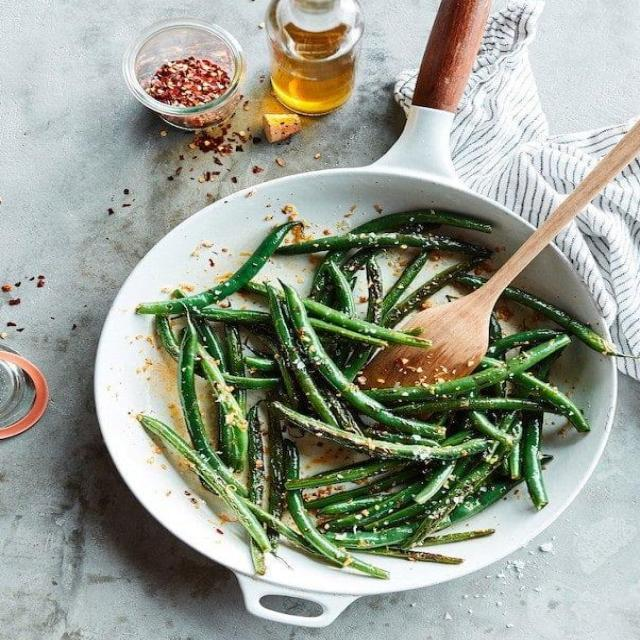Beans: (122, 203, 611, 576)
